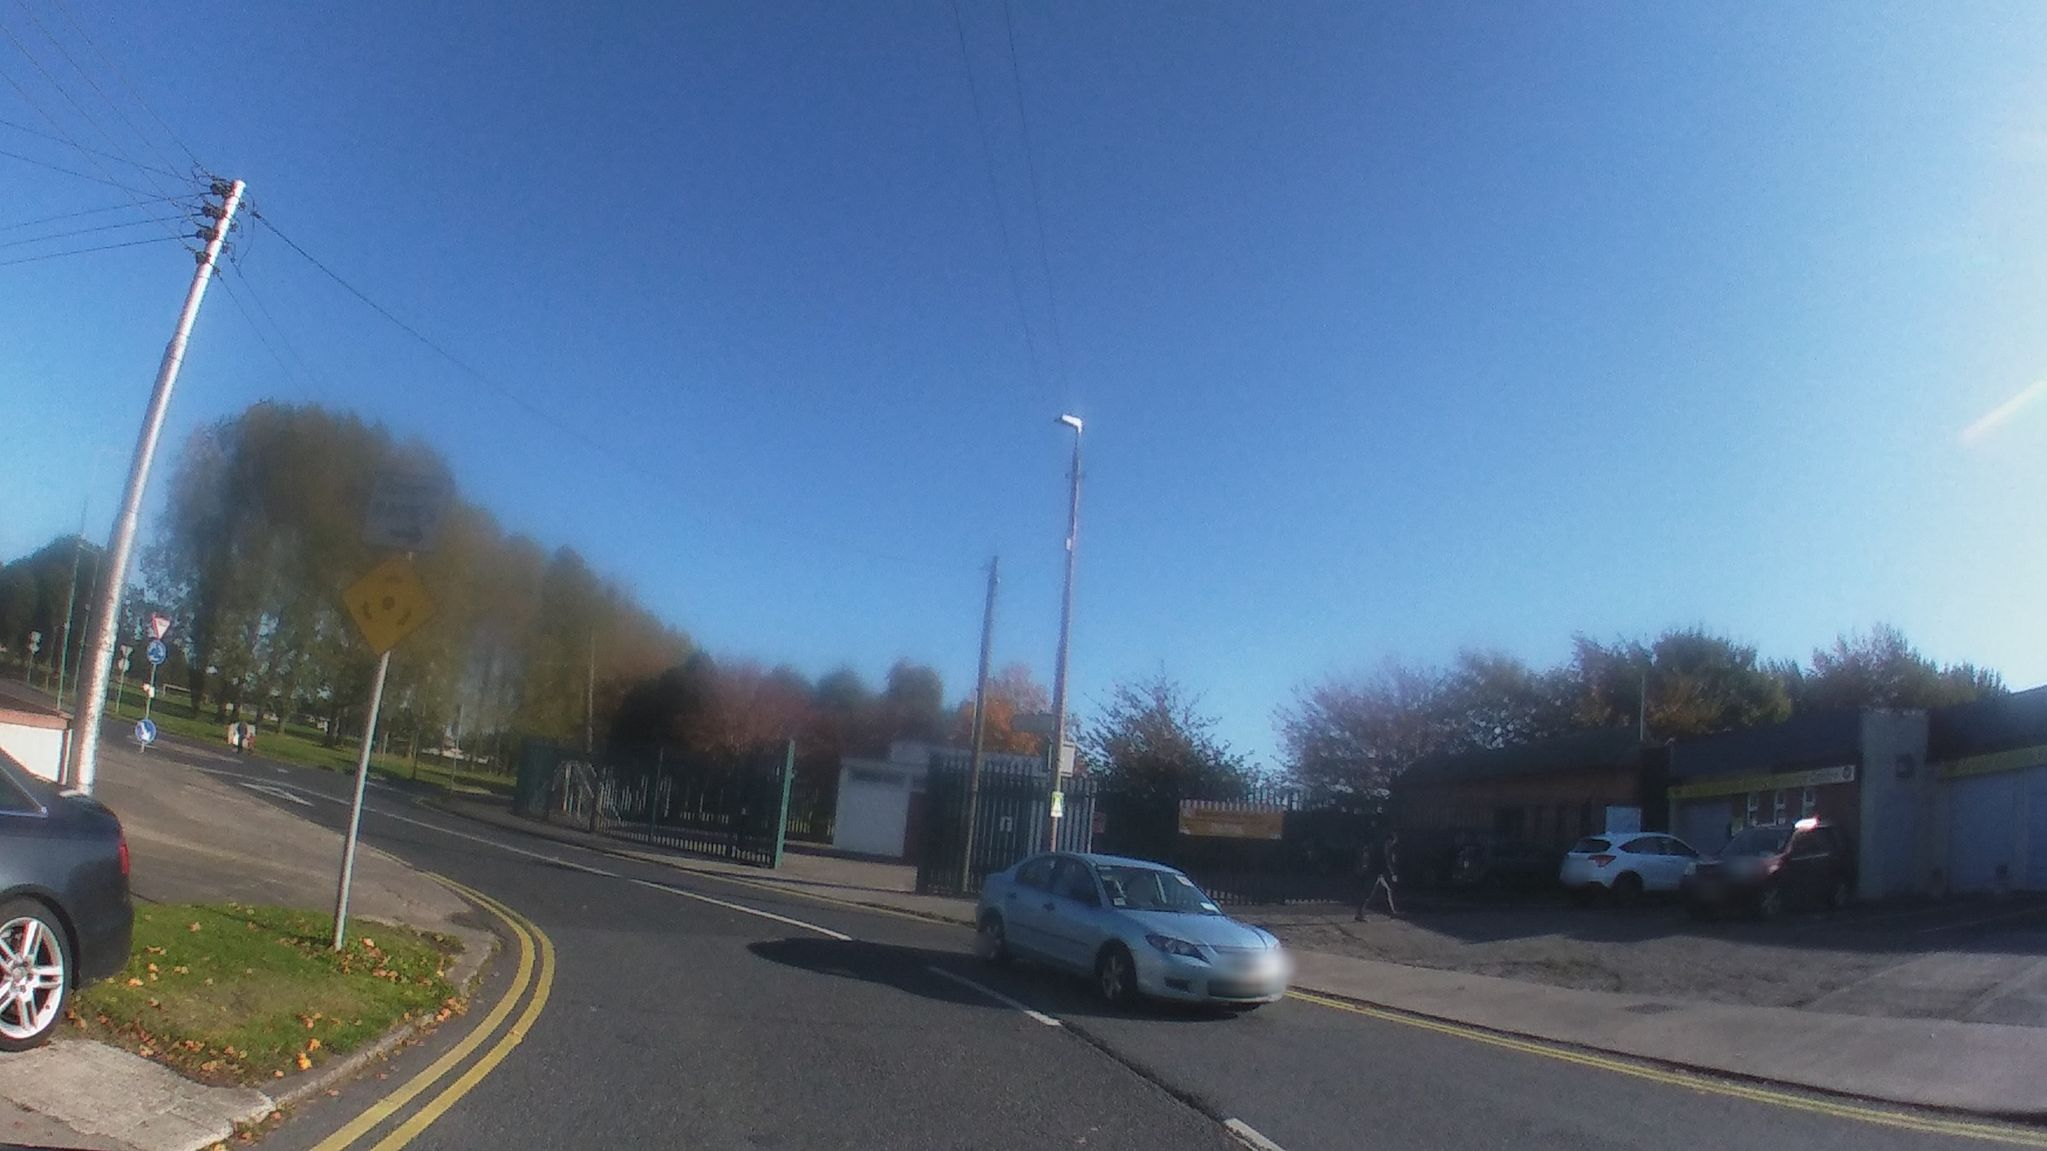vinyl banner: (1181, 776, 1300, 859)
